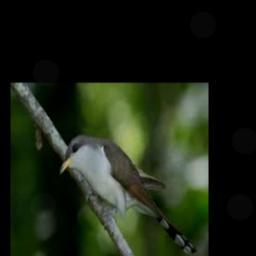Cuckoo: (59, 134, 196, 254)
